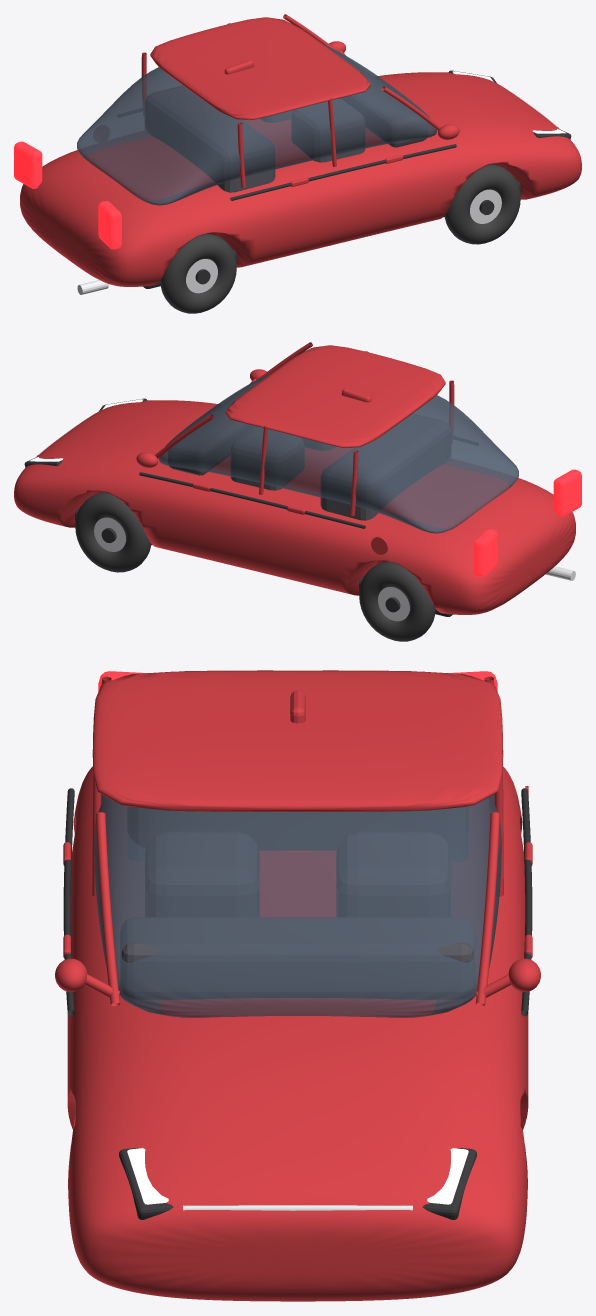
The model's file is jp_car_red.glb.
3 renders of one model, top to bottom at view 1: azimuth 30°, elevation 25°; view 2: azimuth 150°, elevation 25°; view 3: azimuth 270°, elevation 25°, orthographic. The views are drawn at different scales.
Parts seen in each view (by area): view 1: LowerBody, Greenhouse, Roof, SeatR, Tire3, Tire1, SeatF_-0.35, Dash, Tail_L, Tail_R, BeltTrim.001, Rim3 (+1 smaller); view 2: LowerBody, Greenhouse, Roof, SeatR, Tire2, Tire0, SeatF_0.35, Dash, Tail_R, Tail_L, BeltTrim, Rim2 (+1 smaller); view 3: LowerBody, Greenhouse, Roof, Dash, SeatF_0.35, SeatF_-0.35, SeatR, APillar, APillar.001, GrilleBar, BeltTrim, BeltTrim.001 (+6 smaller).
Part boxes in pixels (left/top/right/bottom): LowerBody: left=20, top=72, right=581, bottom=286; Greenhouse: left=77, top=44, right=436, bottom=205; Roof: left=150, top=17, right=370, bottom=119; SeatR: left=145, top=85, right=275, bottom=192; Tire3: left=160, top=233, right=236, bottom=313; Tire1: left=444, top=164, right=520, bottom=244; SeatF_-0.35: left=291, top=99, right=365, bottom=162; Dash: left=337, top=54, right=427, bottom=147; Tail_L: left=14, top=141, right=42, bottom=188; Tail_R: left=98, top=201, right=121, bottom=249; BeltTrim.001: left=230, top=144, right=456, bottom=200; Rim3: left=186, top=259, right=217, bottom=293; LowerBody: left=14, top=400, right=575, bottom=614; Greenhouse: left=159, top=372, right=518, bottom=533; Roof: left=225, top=345, right=445, bottom=447; SeatR: left=320, top=413, right=450, bottom=520; Tire2: left=359, top=561, right=435, bottom=641; Tire0: left=75, top=492, right=151, bottom=572; SeatF_0.35: left=230, top=427, right=304, bottom=490; Dash: left=168, top=382, right=258, bottom=475; Tail_R: left=553, top=469, right=581, bottom=516; Tail_L: left=474, top=529, right=497, bottom=577; BeltTrim: left=139, top=472, right=365, bottom=528; Rim2: left=378, top=587, right=409, bottom=621; LowerBody: left=67, top=766, right=528, bottom=1301; Greenhouse: left=94, top=794, right=501, bottom=1017; Roof: left=92, top=670, right=503, bottom=811; Dash: left=120, top=917, right=475, bottom=999; SeatF_0.35: left=336, top=832, right=450, bottom=916; SeatF_-0.35: left=145, top=832, right=259, bottom=916; SeatR: left=127, top=807, right=468, bottom=850; APillar: left=475, top=812, right=499, bottom=1006; APillar.001: left=96, top=812, right=120, bottom=1006; GrilleBar: left=183, top=1205, right=412, bottom=1210; BeltTrim: left=521, top=788, right=532, bottom=1016; BeltTrim.001: left=63, top=788, right=74, bottom=1016.
Bounding box in the file's own units: 4.09 × 1.55 × 1.78.
